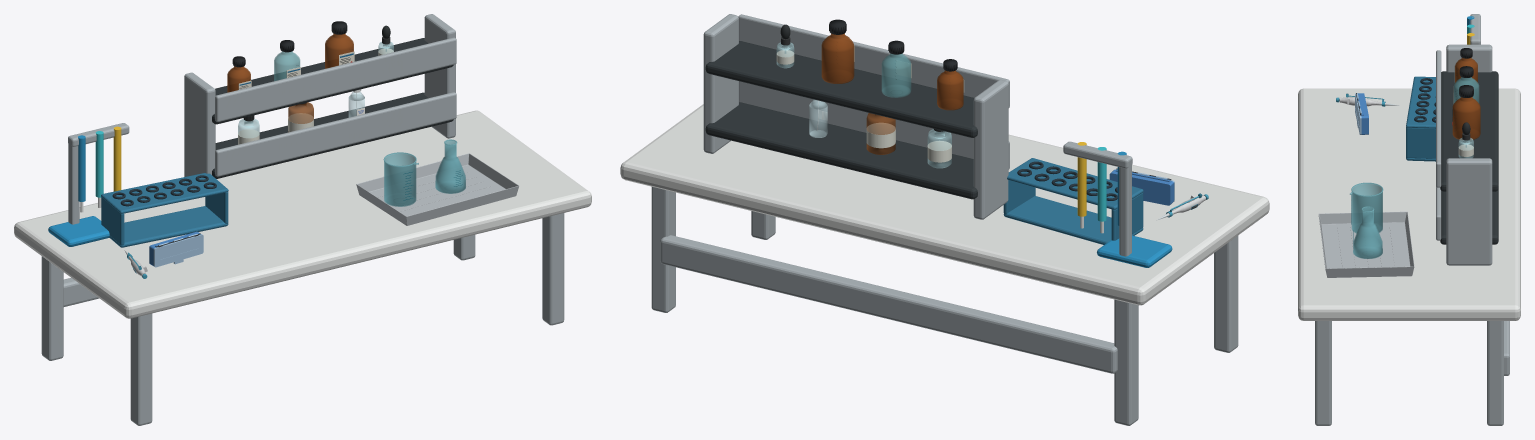
File: laboratory.glb
3 views of the same model, side by side, from view 1: azimuth 30°, elevation 25°; view 2: azimuth 150°, elevation 25°; view 3: azimuth 270°, elevation 25° (orthographic). The views are drawn at different scales.
Bounding box in the file's own units: 3.4 × 1.93 × 1.45.
